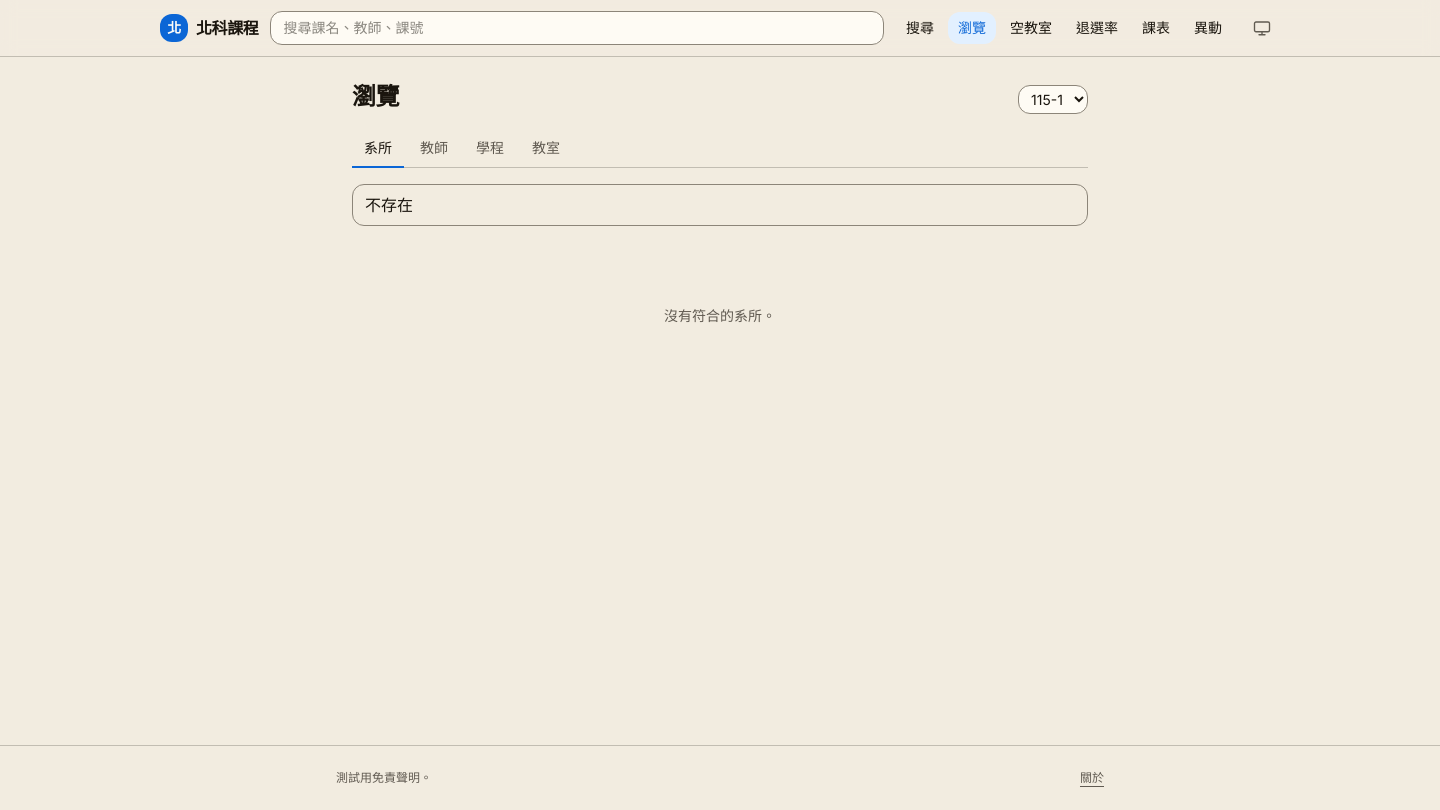
Test: /browse › 關鍵字過濾,找不到時說清楚
The width and height of the screenshot is (1440, 810).
Check: the text "沒有符合的系所。" is shown, box [664,307,776,324]
Replace the text in the search field named "搜尋系所" with "資工": (720, 205) [352,184,1088,226]
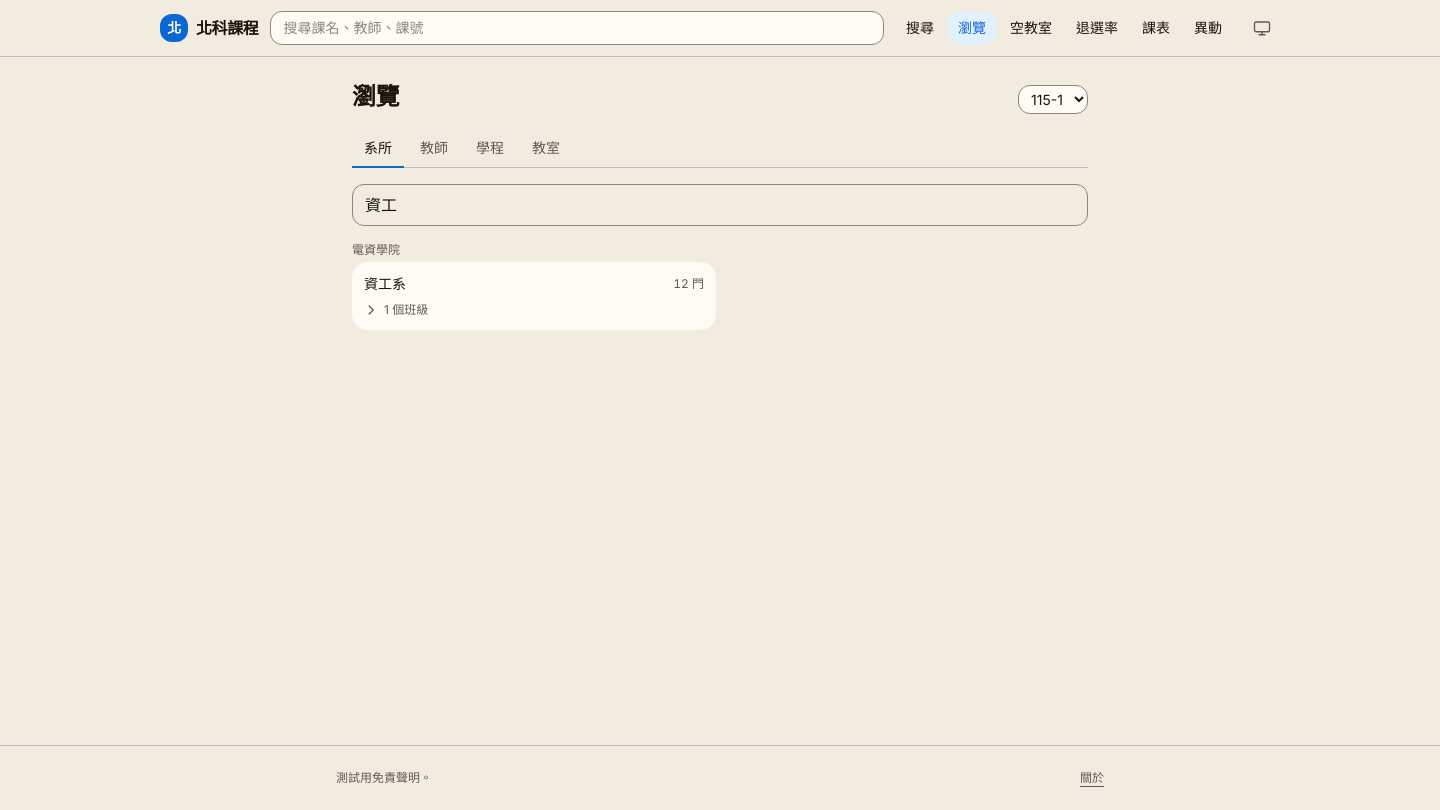
Check: the link "資工系" is shown, box [364,275,406,292]
